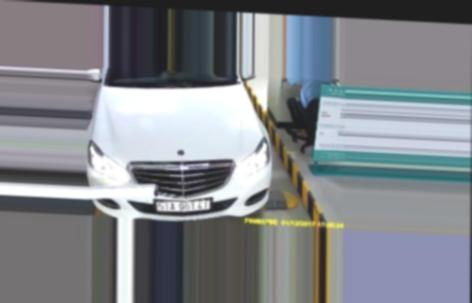License_Plate: (153, 198, 214, 215)
